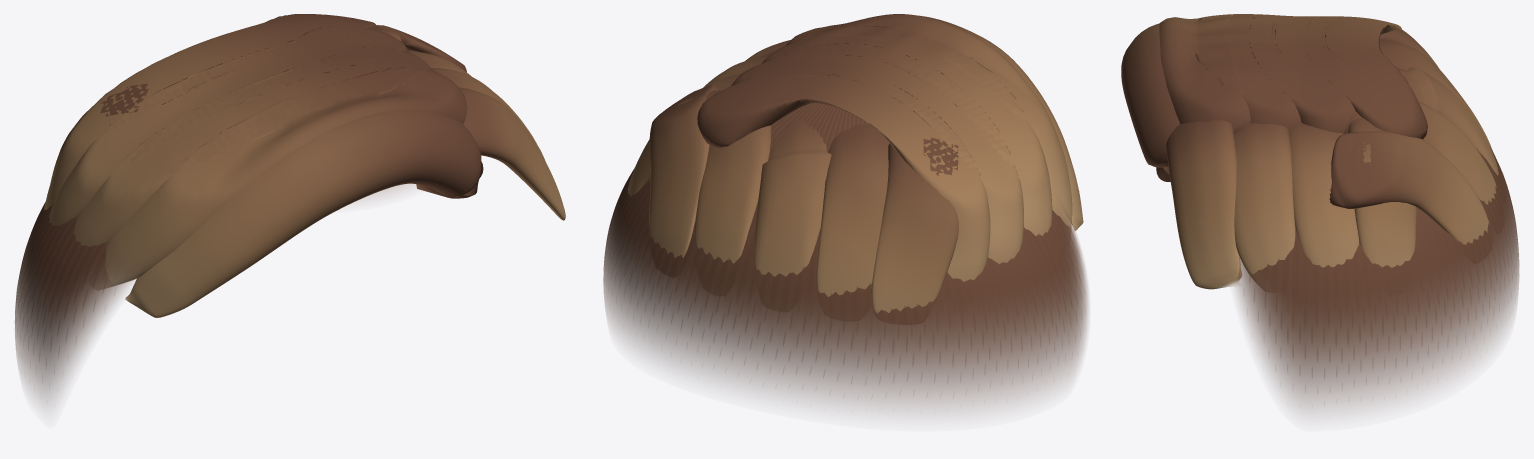
File: Masculine-taper-pashmina257-hair-ombre.glb
3 views of the same model, side by side, from view 1: azimuth 30°, elevation 25°; view 2: azimuth 150°, elevation 25°; view 3: azimuth 270°, elevation 25° (orthographic). The views are drawn at different scales.
Parts seen in each view (by area): view 1: 226 hair / Hair252 / sculpted locks, 226 hair / Hair252 / gentle tonal variation, 226 hair / Hair257 / smooth side fade, 226 hair / Hair257 / directional fade marks; view 2: 226 hair / Hair252 / sculpted locks, 226 hair / Hair257 / smooth side fade, 226 hair / Hair252 / gentle tonal variation, 226 hair / Hair257 / directional fade marks; view 3: 226 hair / Hair252 / sculpted locks, 226 hair / Hair257 / smooth side fade, 226 hair / Hair252 / gentle tonal variation, 226 hair / Hair257 / directional fade marks.
Boxes of the visible parts, left/top/right/bottom form: 226 hair / Hair252 / sculpted locks: left=44, top=14, right=544, bottom=288; 226 hair / Hair252 / gentle tonal variation: left=125, top=87, right=565, bottom=317; 226 hair / Hair257 / smooth side fade: left=15, top=184, right=415, bottom=405; 226 hair / Hair257 / directional fade marks: left=16, top=205, right=107, bottom=365; 226 hair / Hair252 / sculpted locks: left=627, top=14, right=1072, bottom=313; 226 hair / Hair257 / smooth side fade: left=603, top=103, right=1088, bottom=411; 226 hair / Hair252 / gentle tonal variation: left=745, top=15, right=1083, bottom=296; 226 hair / Hair257 / directional fade marks: left=614, top=171, right=1081, bottom=382; 226 hair / Hair252 / sculpted locks: left=1159, top=14, right=1498, bottom=288; 226 hair / Hair257 / smooth side fade: left=1235, top=67, right=1519, bottom=411; 226 hair / Hair252 / gentle tonal variation: left=1121, top=23, right=1492, bottom=289; 226 hair / Hair257 / directional fade marks: left=1249, top=158, right=1514, bottom=377.
Size of the model in its own units: 0.9723 by 0.6191 by 0.7439.
